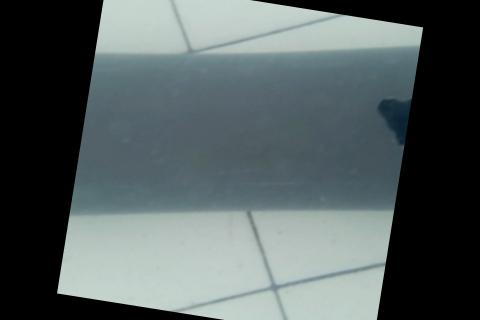kebocoran: (367, 87, 412, 148)
